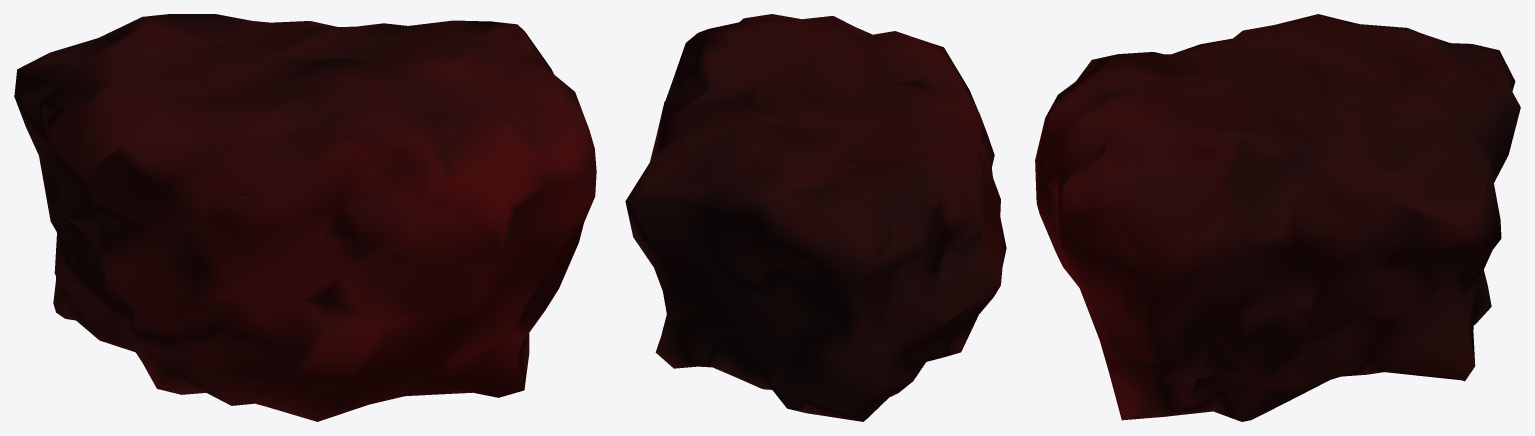
File: geology-rocks-meteoritemedium_v3.fbx
3 views of the same model, side by side, from view 1: azimuth 30°, elevation 25°; view 2: azimuth 150°, elevation 25°; view 3: azimuth 270°, elevation 25° (orthographic). The views are drawn at different scales.
Visible parts, largest first — view 1: MeteoriteMedium_v3; view 2: MeteoriteMedium_v3; view 3: MeteoriteMedium_v3.
Part boxes in pixels (box(x1,y1,x2,y2)): MeteoriteMedium_v3: box(14, 14, 596, 421); MeteoriteMedium_v3: box(625, 14, 1006, 421); MeteoriteMedium_v3: box(1035, 14, 1520, 421).
Size of the model in its own units: 2.59 by 1.99 by 2.77.
